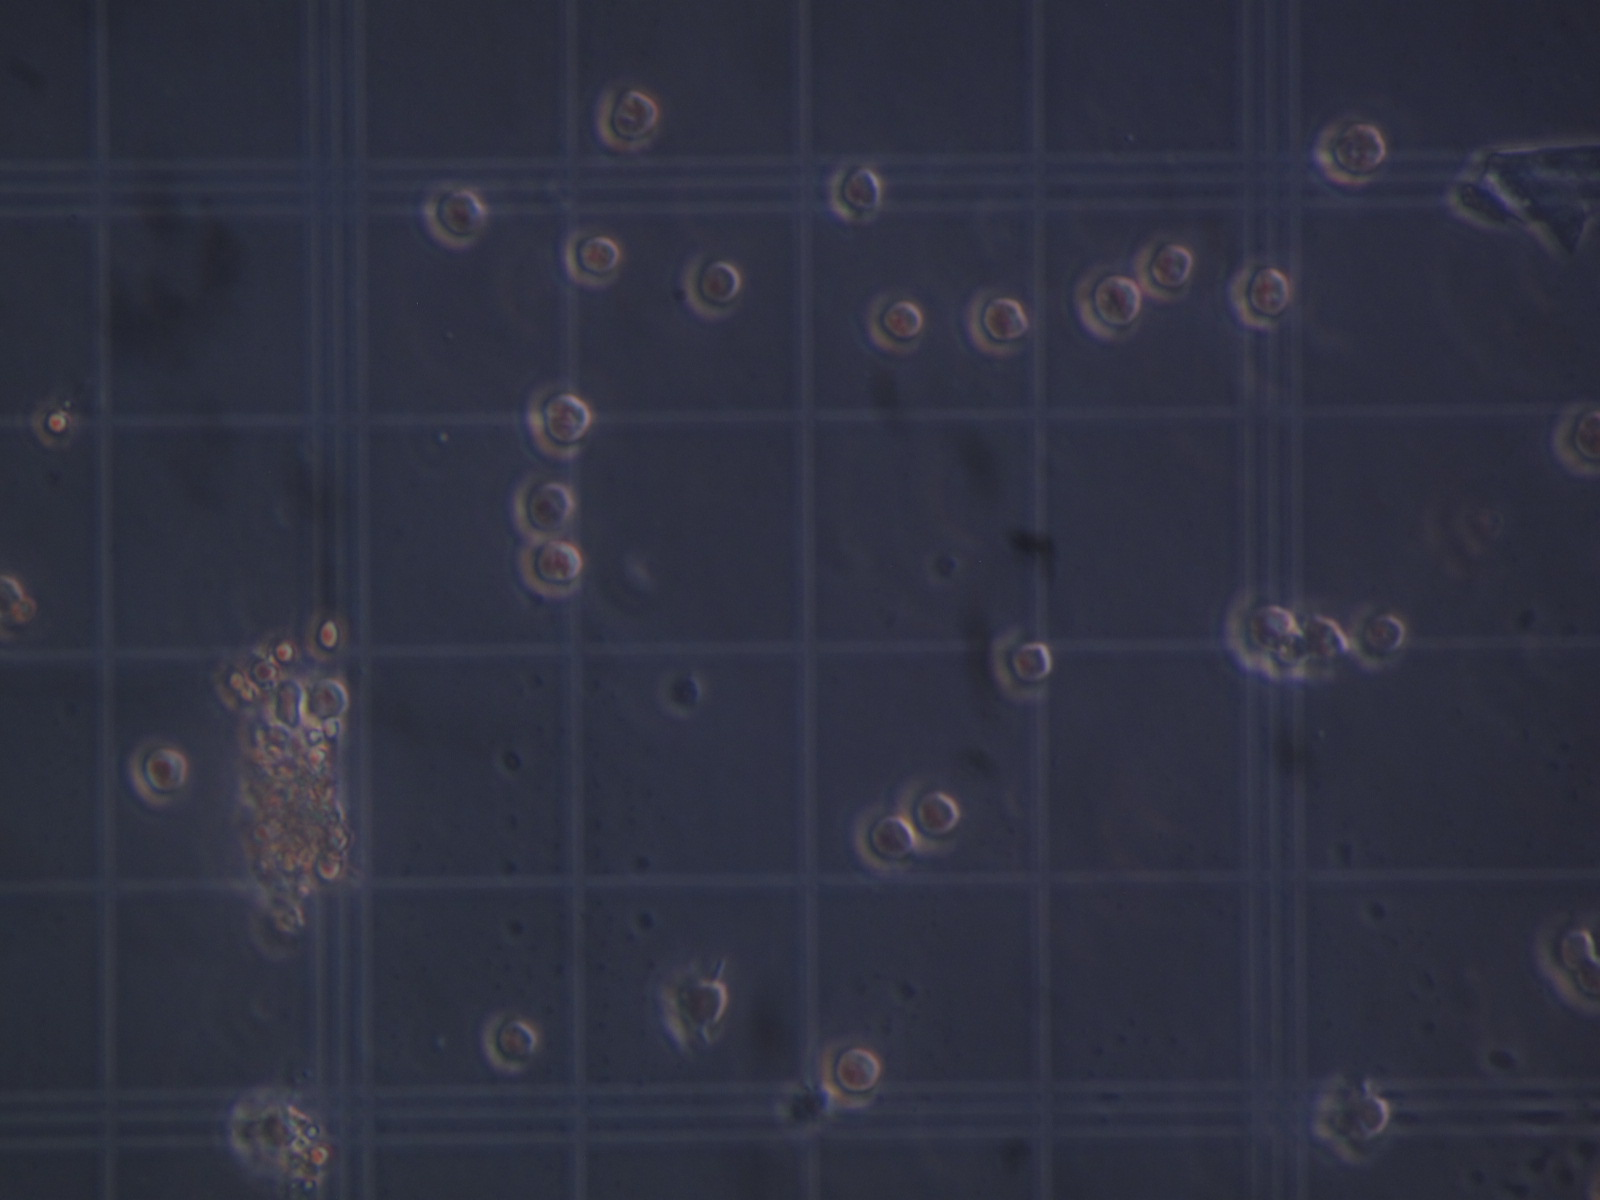hemo: (656, 957, 729, 1056), (894, 770, 966, 860), (1073, 263, 1149, 342), (1225, 584, 1296, 666), (1314, 113, 1388, 189), (988, 621, 1054, 702), (848, 802, 920, 876), (527, 376, 591, 458), (966, 280, 1031, 361), (1133, 228, 1197, 308), (595, 84, 664, 155), (129, 734, 186, 811), (425, 182, 488, 252), (679, 250, 745, 316), (1329, 1093, 1397, 1156), (1352, 597, 1406, 676), (821, 1040, 884, 1107), (864, 286, 925, 355), (1230, 260, 1290, 328), (510, 475, 577, 536), (563, 226, 626, 289), (1533, 910, 1597, 972), (520, 537, 582, 597), (486, 1008, 538, 1071), (1257, 629, 1311, 688), (833, 161, 883, 224), (1555, 405, 1600, 471), (1555, 959, 1600, 1016), (301, 674, 348, 726), (304, 613, 345, 658)
